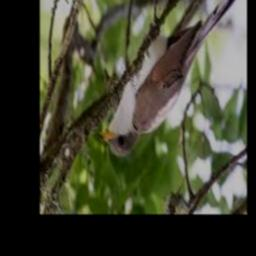Cuckoo: (96, 0, 242, 155)
